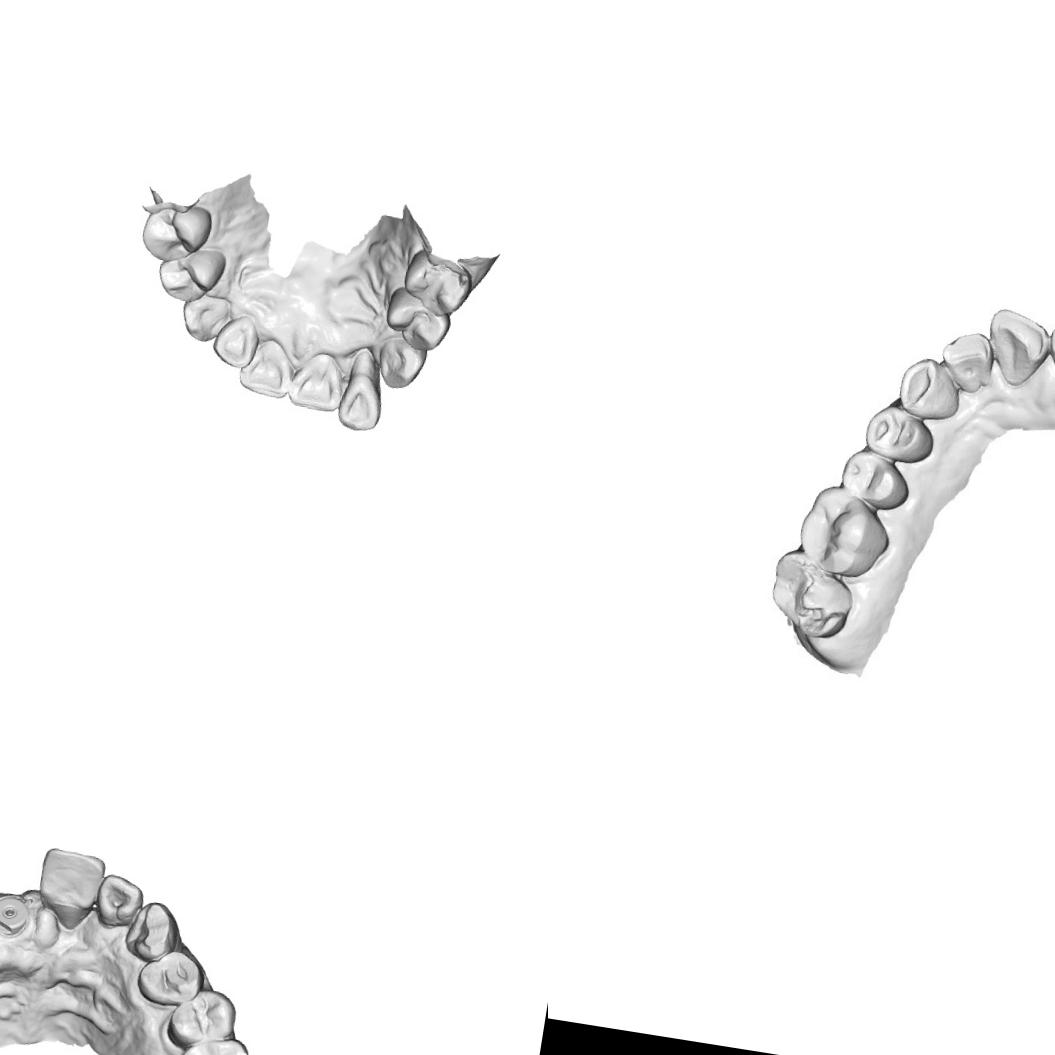canine: (894, 355, 964, 423), (120, 894, 182, 966), (371, 332, 430, 394), (176, 291, 232, 346)
implant: (0, 889, 38, 943)
incisor: (31, 844, 108, 934), (983, 308, 1052, 390), (334, 351, 391, 434), (286, 347, 348, 416), (935, 325, 995, 393), (236, 334, 296, 400), (91, 870, 149, 933), (208, 312, 262, 372)
molar: (796, 484, 892, 582), (764, 549, 858, 642)
premolar: (160, 981, 242, 1055), (855, 400, 941, 468), (398, 247, 476, 321), (378, 284, 458, 356), (833, 444, 914, 515), (138, 198, 216, 268), (131, 943, 207, 1013), (154, 240, 229, 308)
